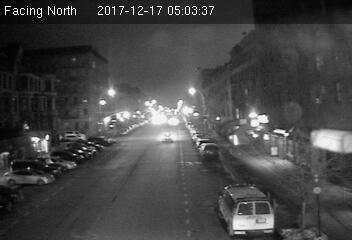car: (158, 132, 176, 145)
police: (218, 183, 275, 234)
